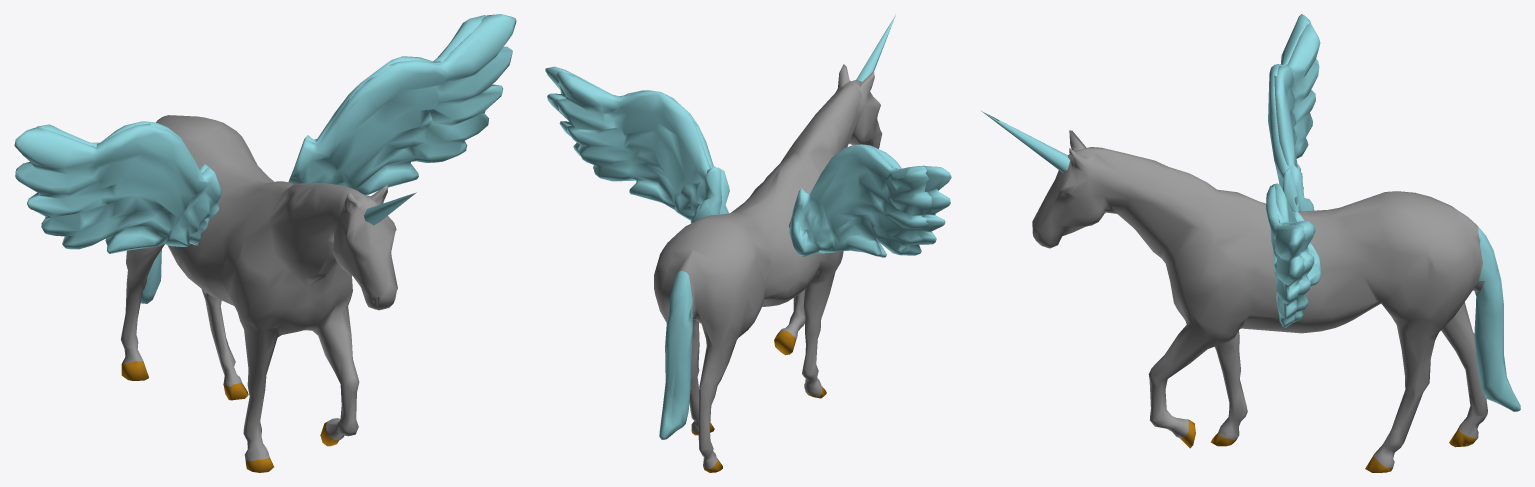
Rendered from unicorn.FBX.
3 views of the same model, side by side, from view 1: azimuth 30°, elevation 25°; view 2: azimuth 150°, elevation 25°; view 3: azimuth 270°, elevation 25° (orthographic). The views are drawn at different scales.
Visible parts, largest first — view 1: 16268_American_Quarter_Horse_Walking_V1; view 2: 16268_American_Quarter_Horse_Walking_V1; view 3: 16268_American_Quarter_Horse_Walking_V1.
Part boxes in pixels (x1,y1,x2,y2): 16268_American_Quarter_Horse_Walking_V1: (14, 14, 516, 472); 16268_American_Quarter_Horse_Walking_V1: (545, 15, 951, 472); 16268_American_Quarter_Horse_Walking_V1: (981, 14, 1520, 472).
Size of the model in its own units: 119 by 82.52 by 117.
